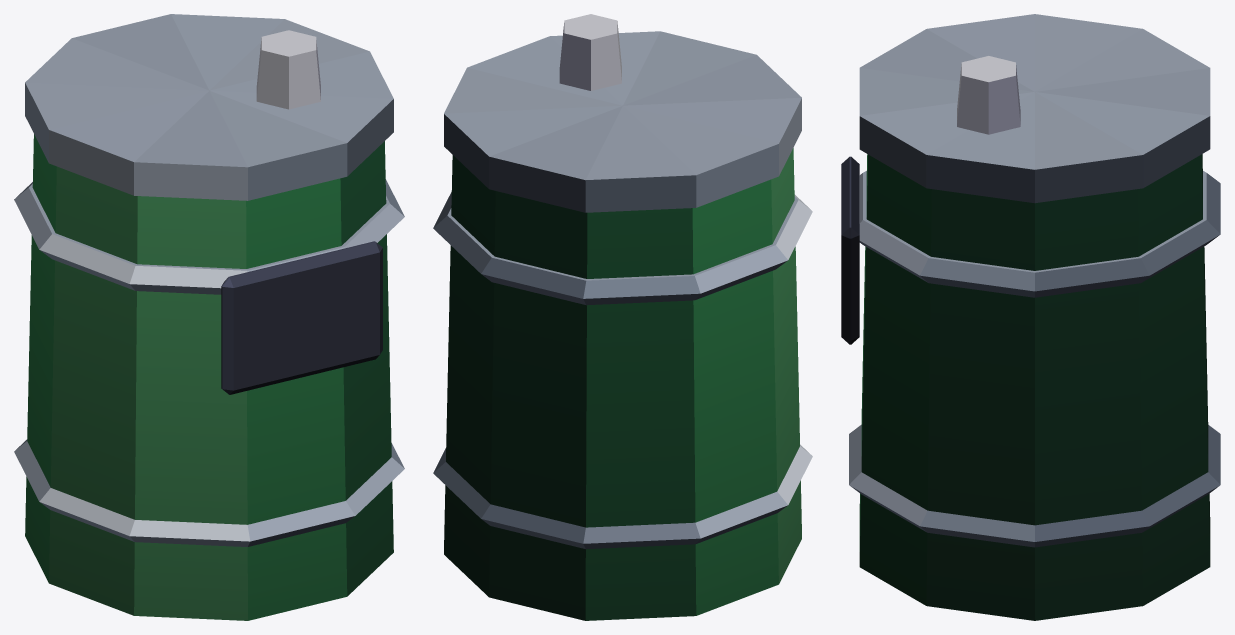
File: bin_street.glb
3 renders of one model, left to right at view 1: azimuth 30°, elevation 25°; view 2: azimuth 150°, elevation 25°; view 3: azimuth 270°, elevation 25°, orthographic. The views are drawn at different scales.
Parts seen in each view (by area): view 1: bin_street; view 2: bin_street; view 3: bin_street.
Boxes of the visible parts, bbox=[...] form: bin_street: bbox=[14, 14, 404, 620]; bin_street: bbox=[433, 14, 812, 620]; bin_street: bbox=[841, 14, 1220, 620].
Size of the model in its own units: 0.424 by 0.6 by 0.4116.
